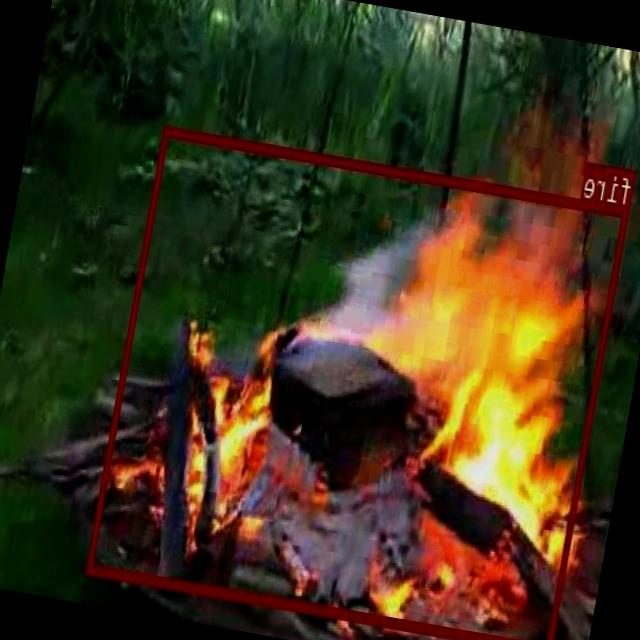fire: (86, 123, 631, 640)
